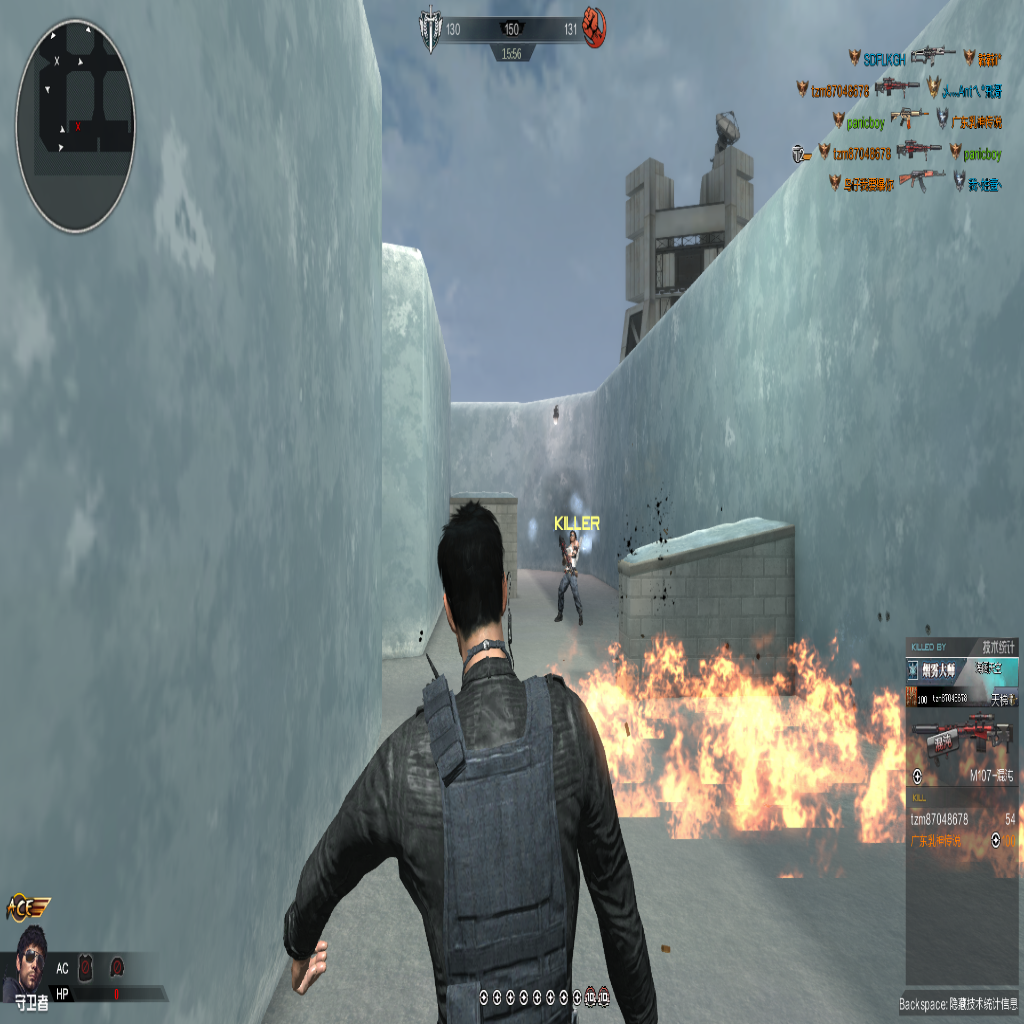tt: (555, 525, 583, 627)
